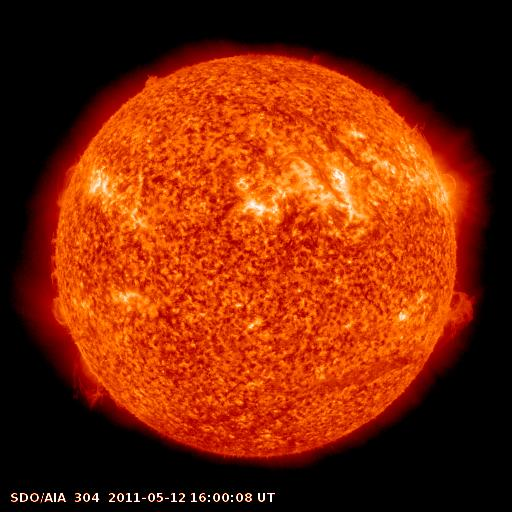prominence: (63, 347, 118, 419), (431, 285, 487, 352), (44, 231, 74, 326), (52, 152, 88, 219), (138, 65, 169, 98)
